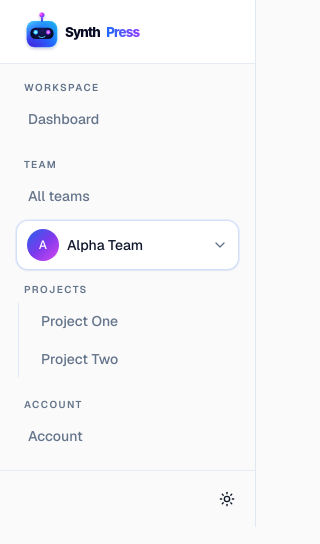
Test: WorkspaceSidebar › closes the dropdown on Escape keypress
Click the button with aria-label "choose or switch team" at (128, 245), box [16,220,239,270]
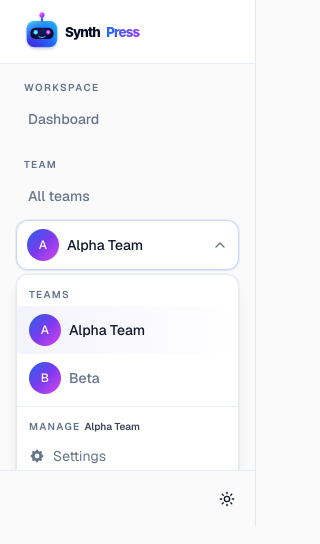
expect the list "Teams A Alpha Team B Beta" is shown: met, box [17,275,238,406]
Press Escape
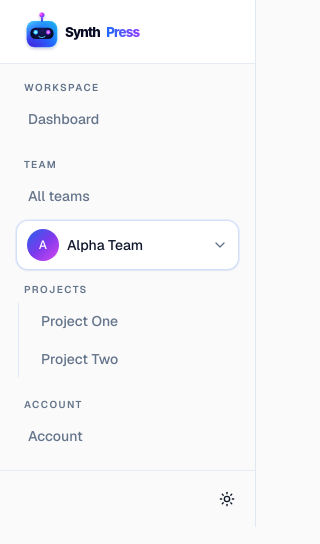
expect the list "Teams A Alpha Team B Beta" is gone: met
